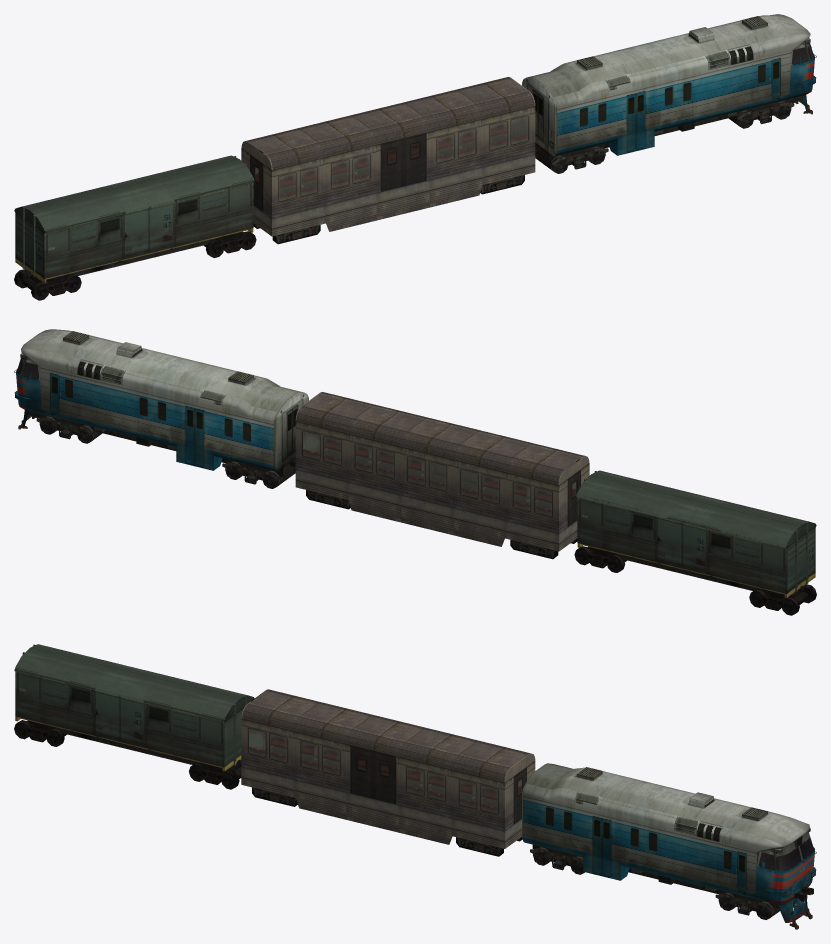
3 views of the same model, one above another, from view 1: azimuth 30°, elevation 25°; view 2: azimuth 150°, elevation 25°; view 3: azimuth 330°, elevation 25° (orthographic).
Visible parts, largest first — view 1: prop_dynamic_11432_27, prop_dynamic_11433_26, func_tracktrain_8545_8574_115, func_tracktrain_8545_9107_40, func_tracktrain_8545_9167_32, func_tracktrain_8545_8879_72, func_tracktrain_8545_8949_62, func_tracktrain_8545_9174_31, func_tracktrain_8545_8553_118, func_tracktrain_8545_8546_119, func_tracktrain_8545_8560_117, func_tracktrain_8545_8567_116 (+10 smaller); view 2: prop_dynamic_11432_27, prop_dynamic_11433_26, func_tracktrain_8545_8574_115, func_tracktrain_8545_8658_103, func_tracktrain_8545_9114_39, func_tracktrain_8545_9121_38, func_tracktrain_8545_8609_110, func_tracktrain_8545_9137_36, func_tracktrain_8545_8595_112, func_tracktrain_8545_8602_111, func_tracktrain_8545_8588_113, func_tracktrain_8545_9107_40 (+8 smaller); view 3: prop_dynamic_11432_27, prop_dynamic_11433_26, func_tracktrain_8545_8574_115, func_tracktrain_8545_9107_40, func_tracktrain_8545_9167_32, func_tracktrain_8545_8949_62, func_tracktrain_8545_8879_72, func_tracktrain_8545_9174_31, func_tracktrain_8545_8553_118, func_tracktrain_8545_8546_119, func_tracktrain_8545_8560_117, func_tracktrain_8545_8567_116 (+10 smaller).
Part boxes in pixels (x1,y1,x2,y2): prop_dynamic_11432_27: [522, 14, 816, 173]; prop_dynamic_11433_26: [14, 155, 256, 300]; func_tracktrain_8545_8574_115: [248, 77, 528, 155]; func_tracktrain_8545_9107_40: [262, 154, 535, 228]; func_tracktrain_8545_9167_32: [272, 164, 535, 236]; func_tracktrain_8545_8879_72: [426, 140, 535, 180]; func_tracktrain_8545_8949_62: [272, 178, 380, 218]; func_tracktrain_8545_9174_31: [326, 185, 482, 231]; func_tracktrain_8545_8553_118: [271, 97, 533, 165]; func_tracktrain_8545_8546_119: [272, 102, 534, 169]; func_tracktrain_8545_8560_117: [269, 94, 532, 161]; func_tracktrain_8545_8567_116: [267, 91, 530, 157]; prop_dynamic_11432_27: [14, 329, 308, 488]; prop_dynamic_11433_26: [574, 470, 816, 615]; func_tracktrain_8545_8574_115: [302, 392, 582, 470]; func_tracktrain_8545_8658_103: [295, 455, 558, 533]; func_tracktrain_8545_9114_39: [295, 469, 568, 543]; func_tracktrain_8545_9121_38: [295, 479, 558, 551]; func_tracktrain_8545_8609_110: [295, 421, 558, 491]; func_tracktrain_8545_9137_36: [348, 500, 504, 546]; func_tracktrain_8545_8595_112: [297, 412, 559, 480]; func_tracktrain_8545_8602_111: [296, 417, 558, 484]; func_tracktrain_8545_8588_113: [298, 409, 561, 476]; func_tracktrain_8545_9107_40: [324, 449, 551, 509]; prop_dynamic_11432_27: [522, 763, 816, 922]; prop_dynamic_11433_26: [14, 644, 254, 789]; func_tracktrain_8545_8574_115: [248, 690, 528, 767]; func_tracktrain_8545_9107_40: [241, 766, 514, 841]; func_tracktrain_8545_9167_32: [241, 777, 505, 848]; func_tracktrain_8545_8949_62: [241, 753, 350, 792]; func_tracktrain_8545_8879_72: [396, 790, 504, 830]; func_tracktrain_8545_9174_31: [296, 798, 452, 844]; func_tracktrain_8545_8553_118: [243, 710, 505, 778]; func_tracktrain_8545_8546_119: [242, 714, 504, 782]; func_tracktrain_8545_8560_117: [244, 706, 507, 773]; func_tracktrain_8545_8567_116: [246, 704, 509, 770].
Size of the model in its own units: 19.17 by 2.36 by 1.59.
Materials: 27 (27 with a texture image).
